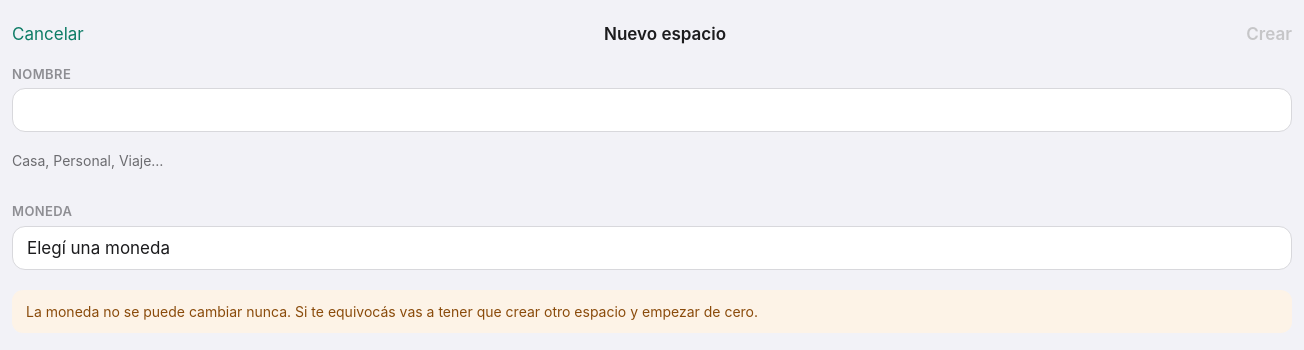
Test case: the screen a Space is created on › refuses it again when what was typed is taken back
Type "Casa" into the field labelled "Nombre" at (652, 110), box [12,88,1292,132]
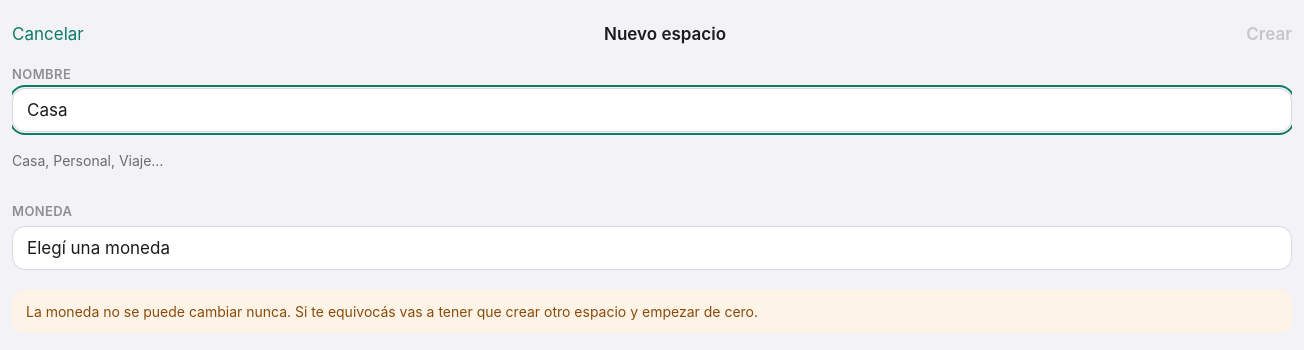
Select "Peso argentino (ARS)" in the dropdown labelled "Moneda" at (652, 248), box [12,226,1292,270]
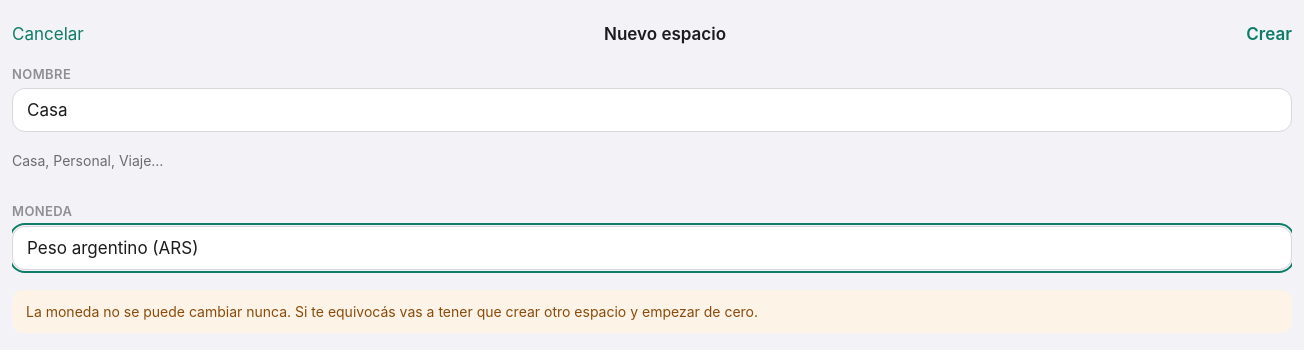
Now the button "Crear" is enabled, box [1246,12,1292,56]
Clear the field labelled "Nombre" at (652, 110), box [12,88,1292,132]
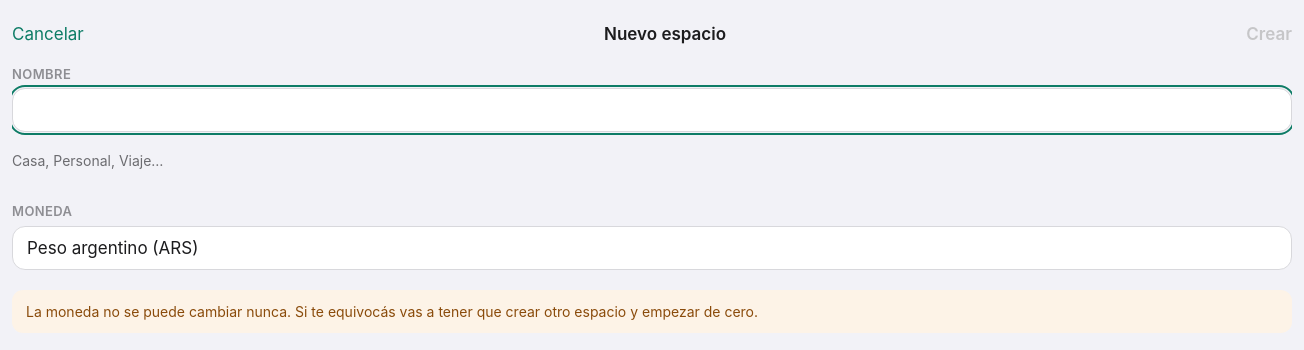
Now the button "Crear" is disabled, box [1246,12,1292,56]
